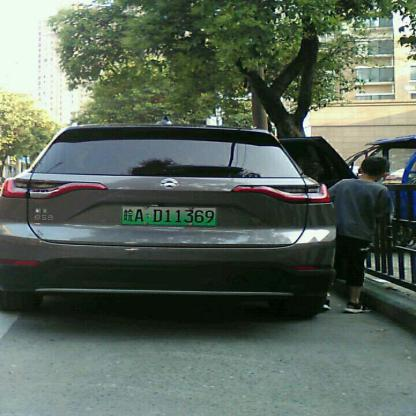lp: (122, 206, 217, 226)
